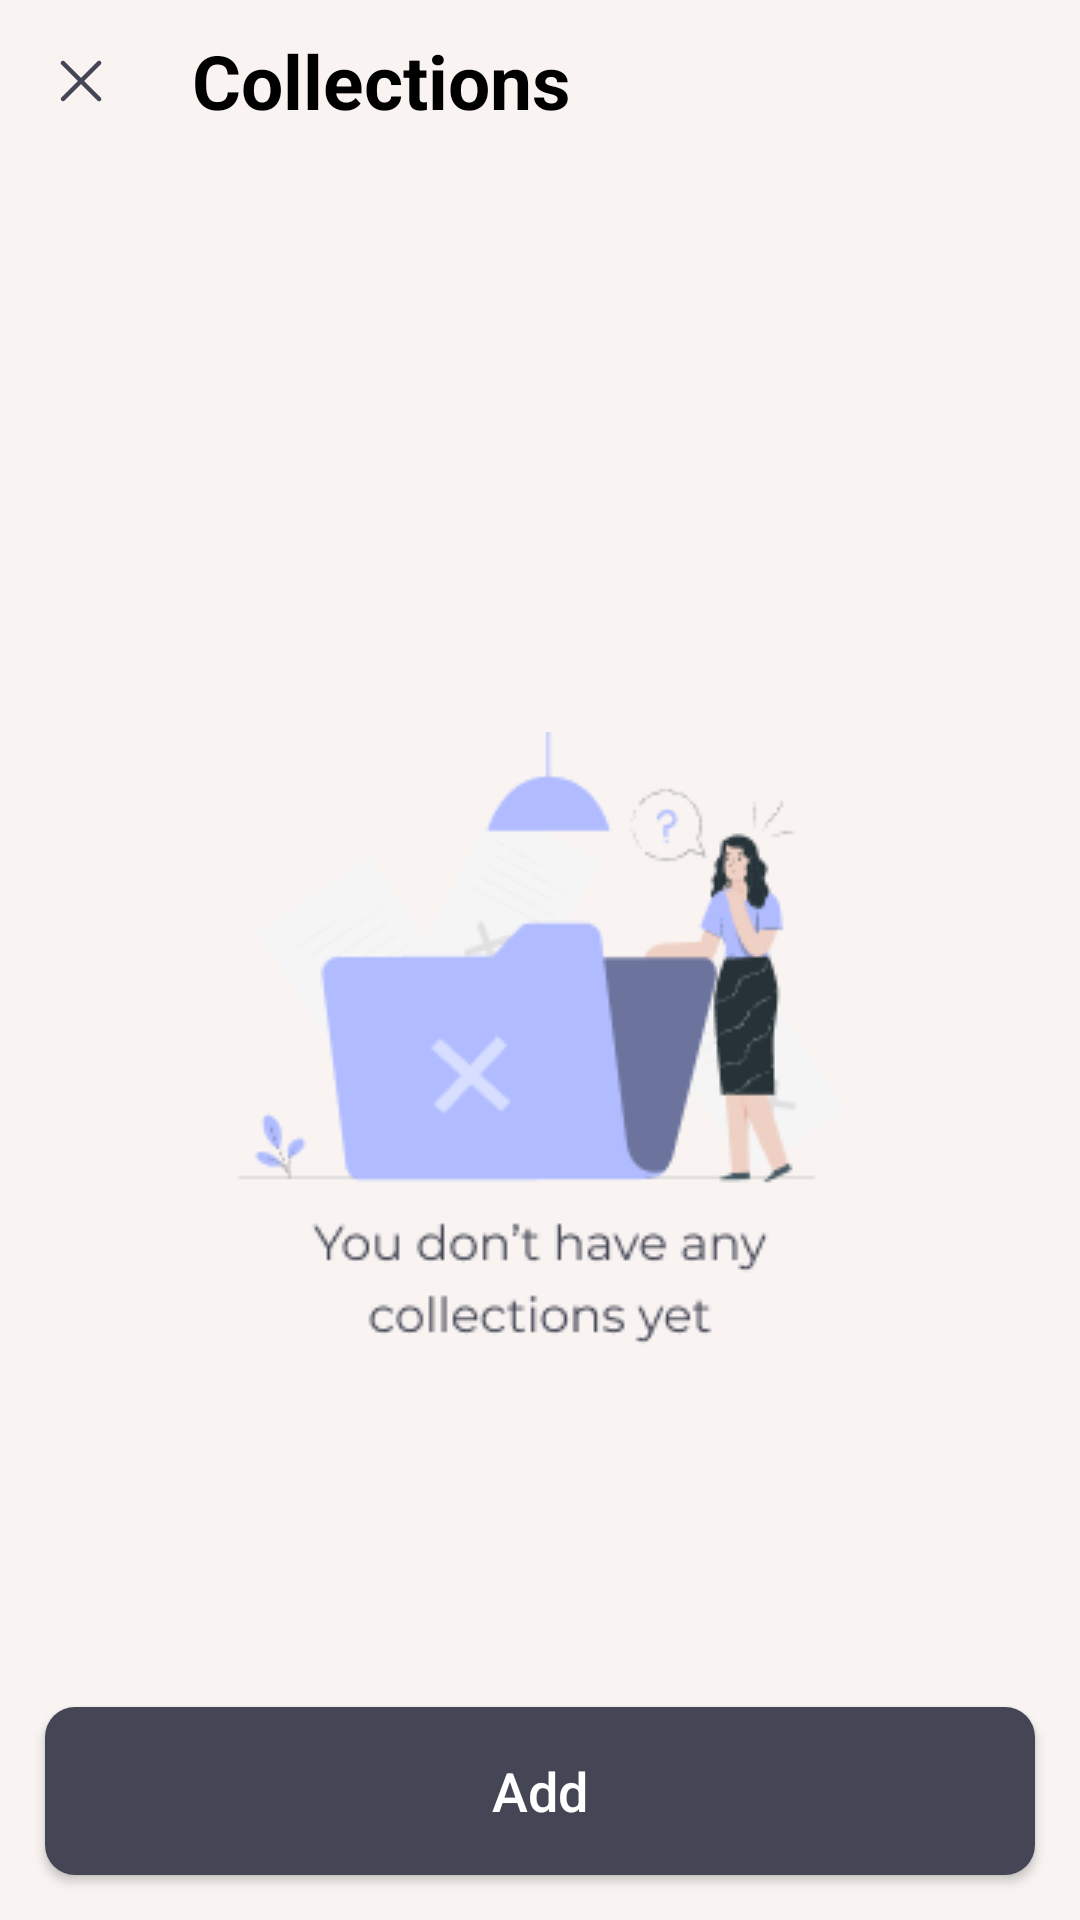

Locate icon controls on the screen. Image size 1080w x 1920h, boxes as (x1, y1, x2, y2).
close: (60, 60, 102, 102)
